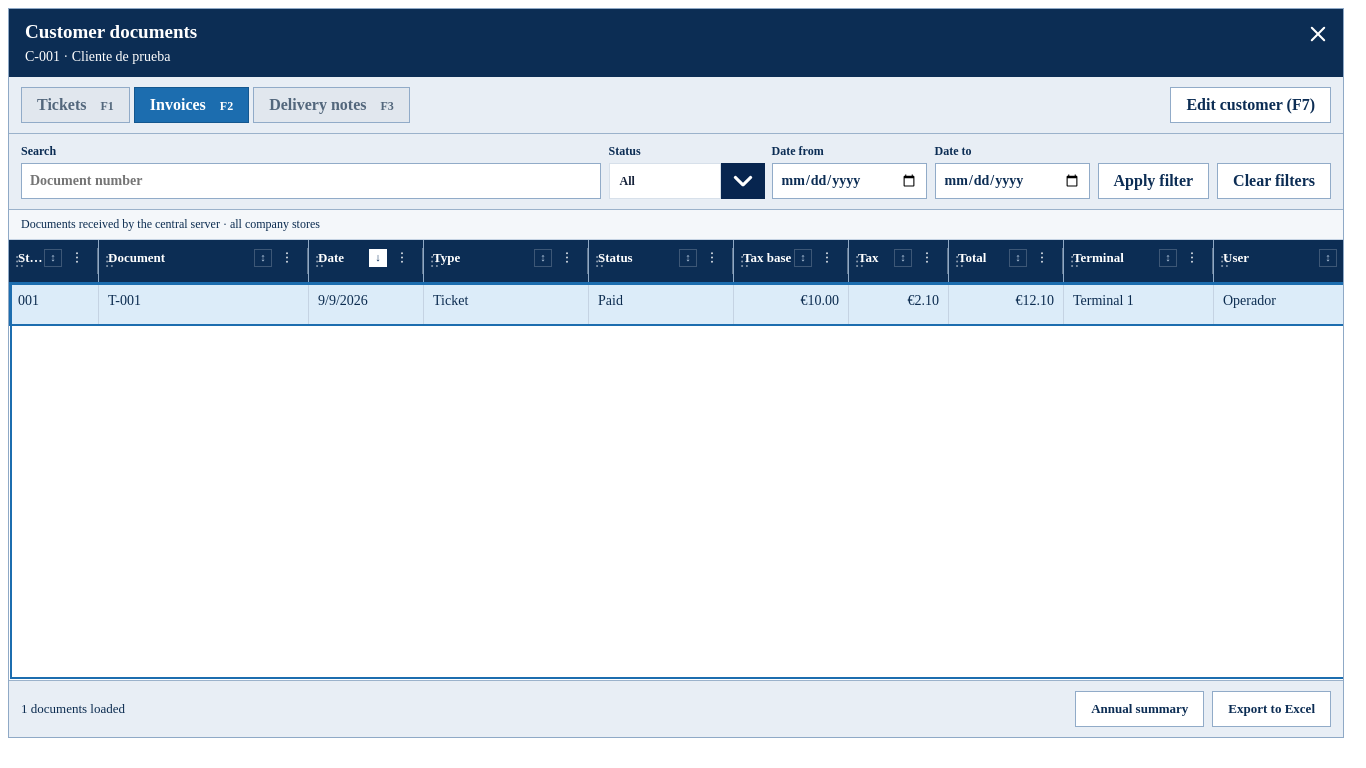
it: CustomerDocumentsDialog › labels the annual summary button in en without renaming the report
The image size is (1366, 768).
Check: the text "T-001" is shown, box top-left (99, 282), bottom-right (309, 325)
Check: the button "Form 347" is not shown
Click the button "Annual summary": (1140, 709) top-left (1075, 691), bottom-right (1204, 727)
(page scrolled)
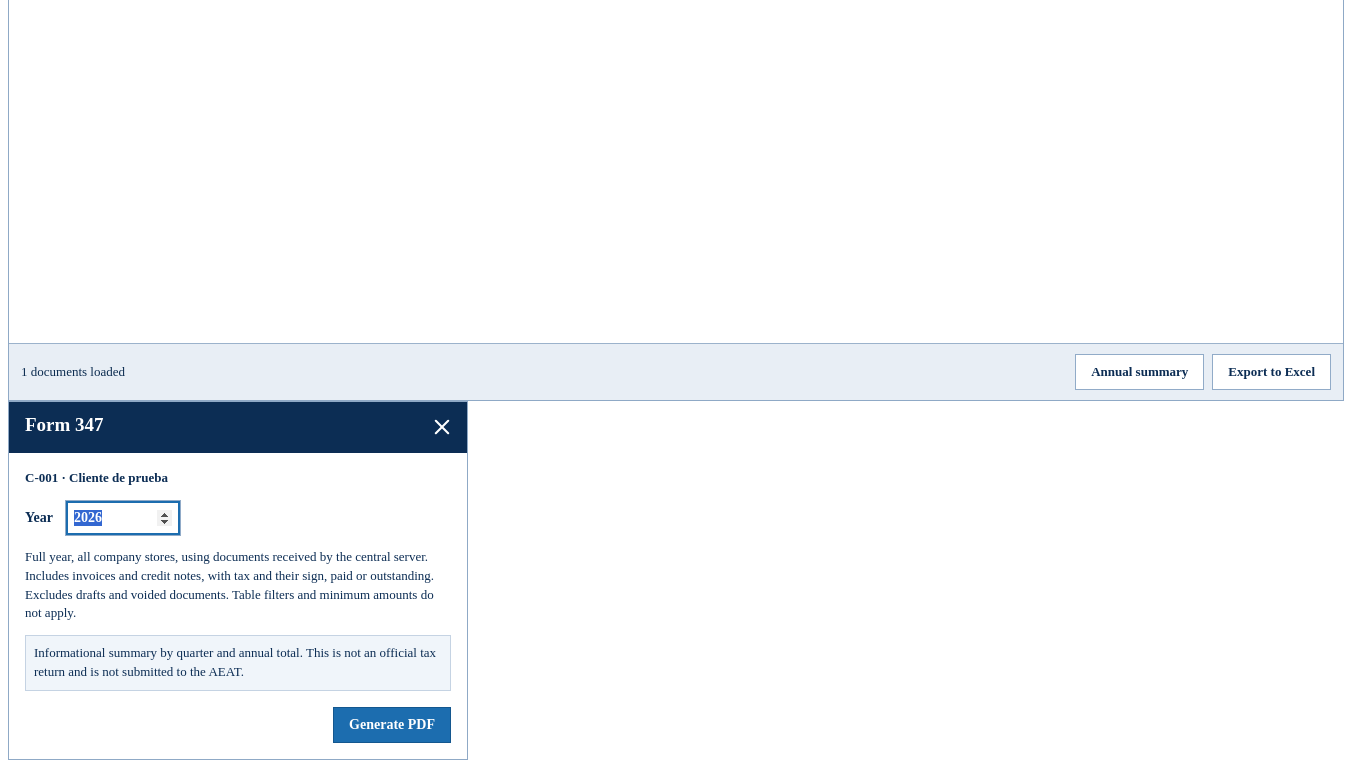
Check: the dialog "Form 347" is shown, box top-left (8, 401), bottom-right (468, 760)
